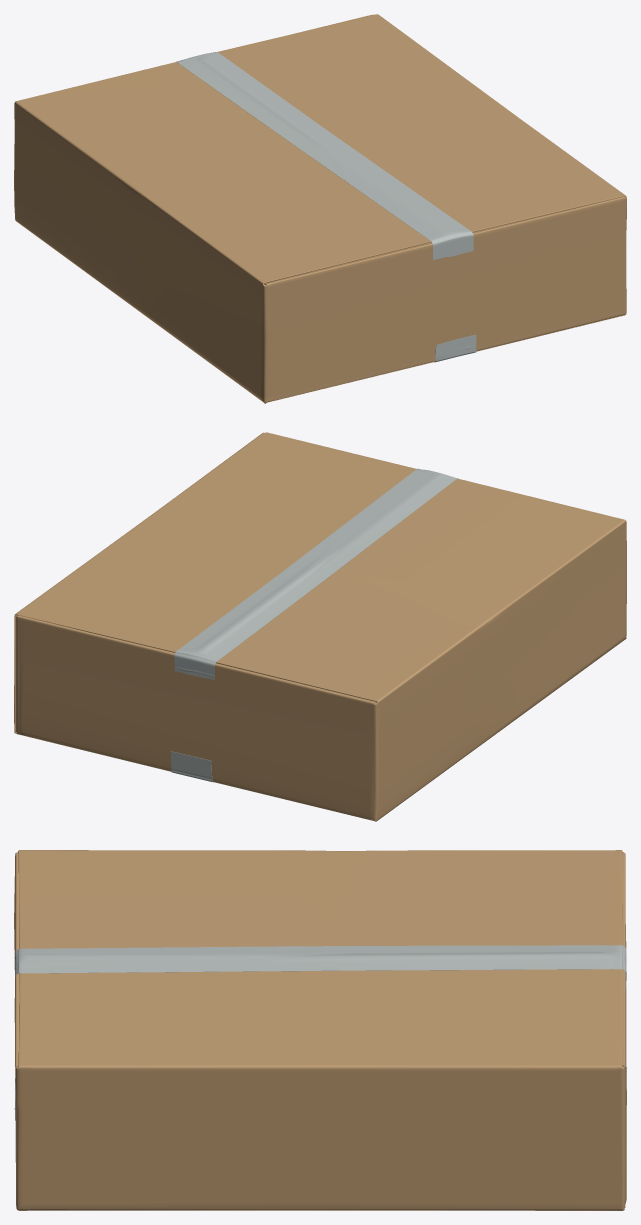
File: box_flat_a16.glb
The picture shows the model from 3 angles, top to bottom: view 1: azimuth 30°, elevation 25°; view 2: azimuth 150°, elevation 25°; view 3: azimuth 270°, elevation 25°; orthographic projection. The views are drawn at different scales.
Size of the model in its own units: 0.5095 by 0.1656 by 0.6105.
